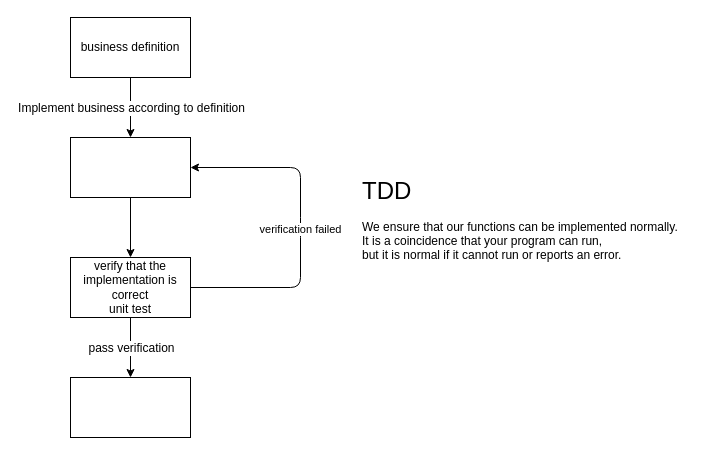
Some shapes in this 717 by 455 pixel diagram are drawn without their labels. The shapes that lost their labels are listed below. From the top down, each one's centre as x and y in pixels, then its label:
the point at 130,167: specific business implementation
the point at 130,407: integrated by other modules
